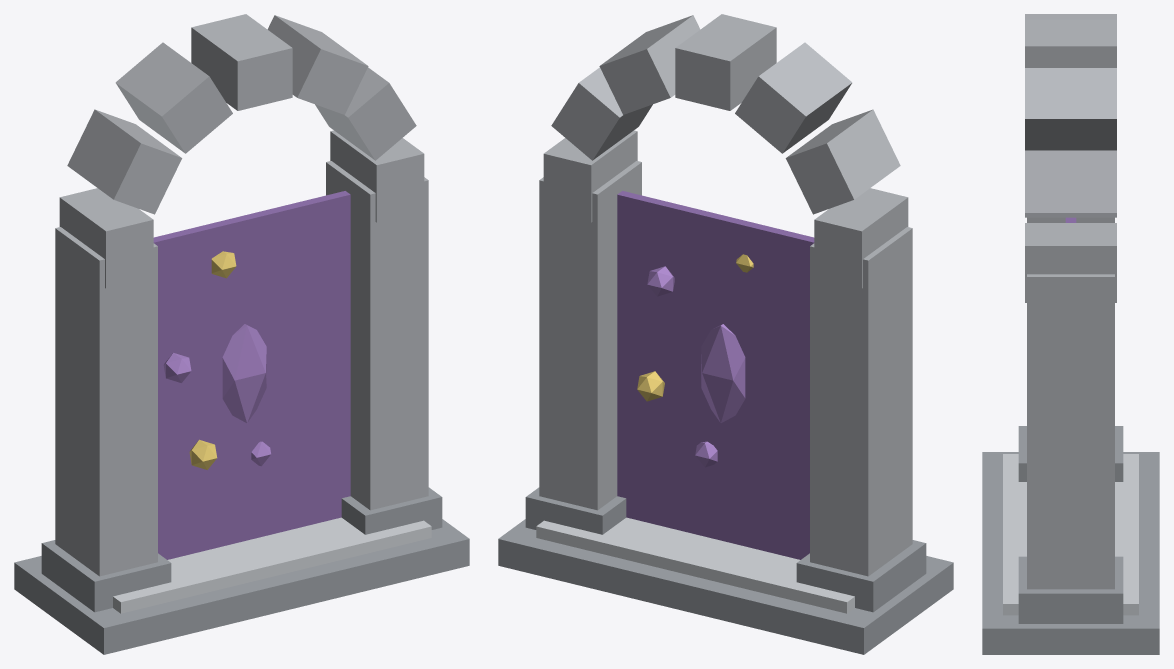
The model's file is animprop_portal_01.glb.
The picture shows the model from 3 angles, left to right: view 1: azimuth 30°, elevation 25°; view 2: azimuth 150°, elevation 25°; view 3: azimuth 270°, elevation 25°; orthographic projection.
Parts seen in each view (by area): view 1: animprop; view 2: animprop; view 3: animprop.
Part boxes in pixels (x1,y1,x2,y2): animprop: (14,14,469,654); animprop: (498,14,953,654); animprop: (982,14,1159,654).
Bounding box in the file's own units: 2 × 2.82 × 0.85.
